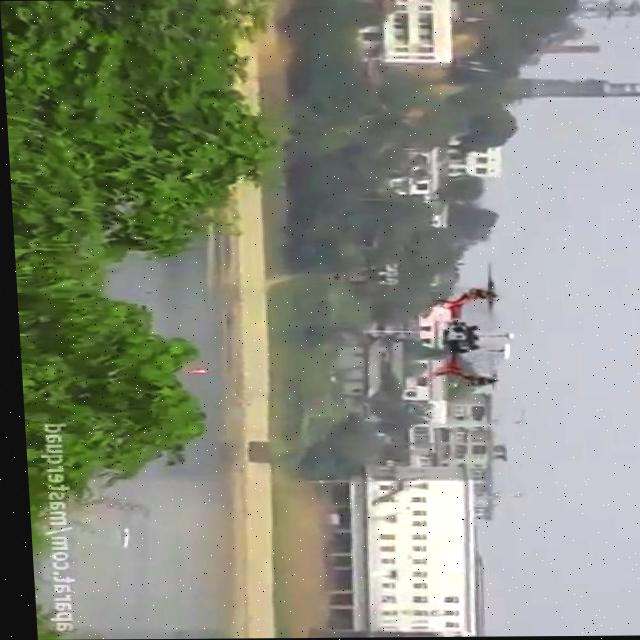drone: (419, 263, 512, 400)
